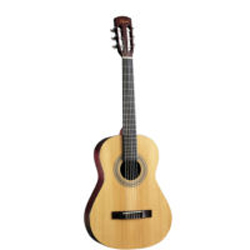guitar: (82, 16, 174, 249)
